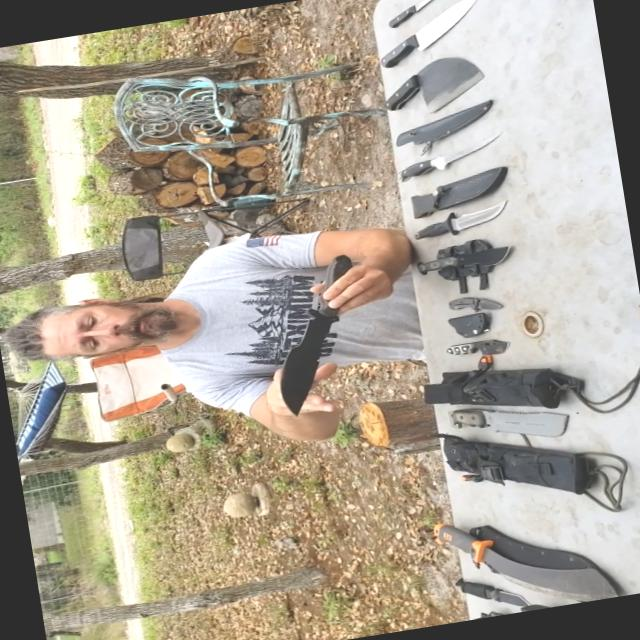knife: (414, 488, 620, 626), (258, 246, 380, 425), (367, 116, 524, 194), (362, 40, 504, 126), (434, 384, 590, 456), (356, 0, 500, 76), (391, 188, 524, 252), (398, 234, 524, 282), (429, 321, 527, 379), (434, 560, 531, 618), (436, 282, 508, 326), (370, 0, 455, 34)
